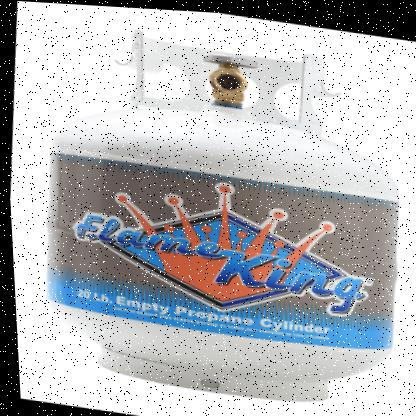gas-tank: (19, 2, 415, 415)
